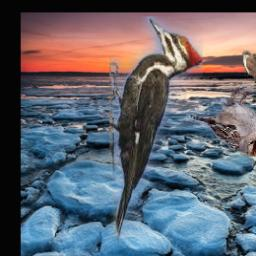Cuckoo: (242, 52, 256, 104)
Sparrow: (187, 84, 256, 157)
Woodpecker: (110, 17, 204, 247)
